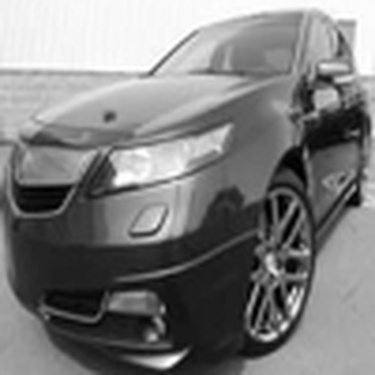car: (7, 12, 364, 357)
